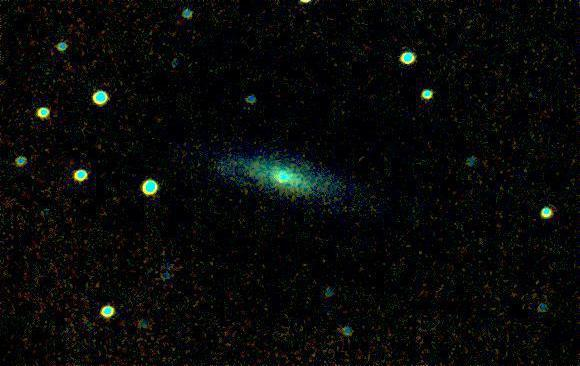star: (328, 172, 358, 202)
